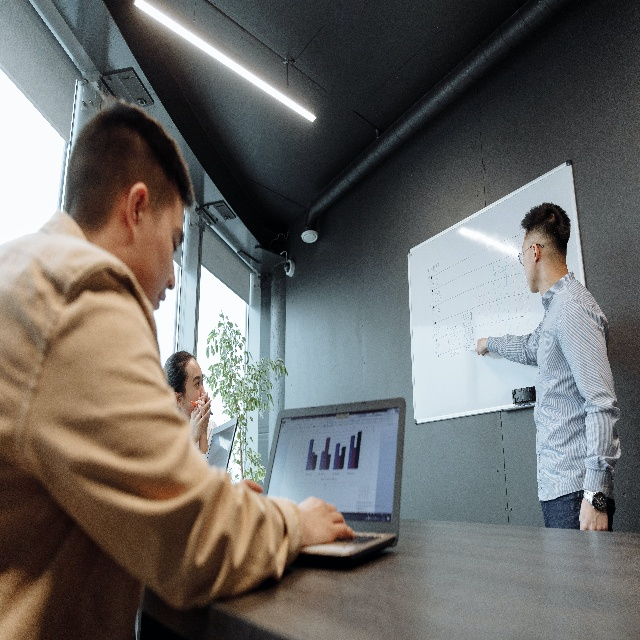Gafas: (518, 243, 544, 265)
Sin_guantes: (297, 494, 356, 547), (185, 391, 212, 443), (578, 497, 609, 533), (195, 391, 212, 435), (474, 336, 490, 357)
